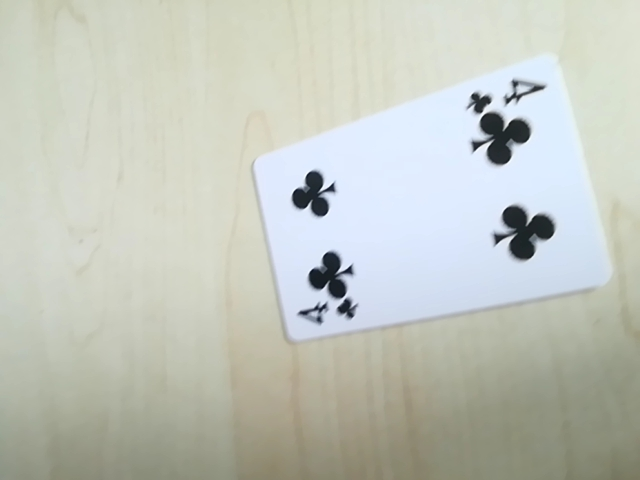mh 4: (463, 72, 550, 113), (293, 293, 361, 333)
